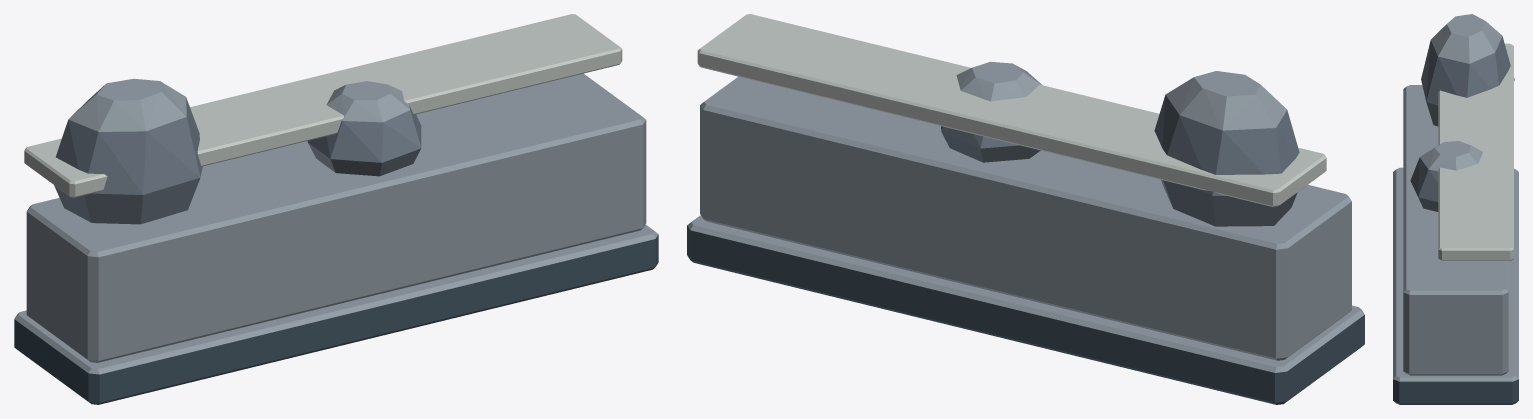
File: wall-broken.glb
3 views of the same model, side by side, from view 1: azimuth 30°, elevation 25°; view 2: azimuth 150°, elevation 25°; view 3: azimuth 270°, elevation 25° (orthographic). The views are drawn at different scales.
Visible parts, largest first — view 1: wall-broken__body; view 2: wall-broken__body; view 3: wall-broken__body.
Boxes of the visible parts, x1,y1,x2,y2 form: wall-broken__body: (14, 14, 658, 404); wall-broken__body: (687, 14, 1364, 404); wall-broken__body: (1393, 14, 1518, 404).
Size of the model in its own units: 2 by 0.88 by 0.5.
